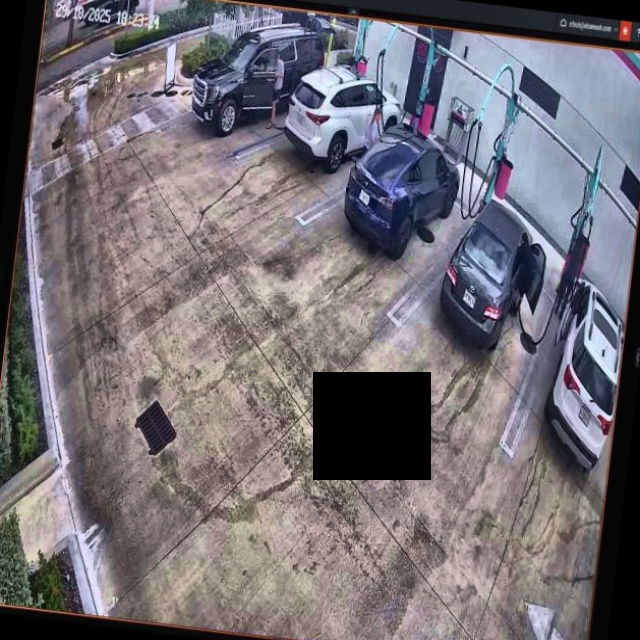Car: (436, 195, 551, 351), (341, 119, 465, 261), (281, 59, 405, 172)
